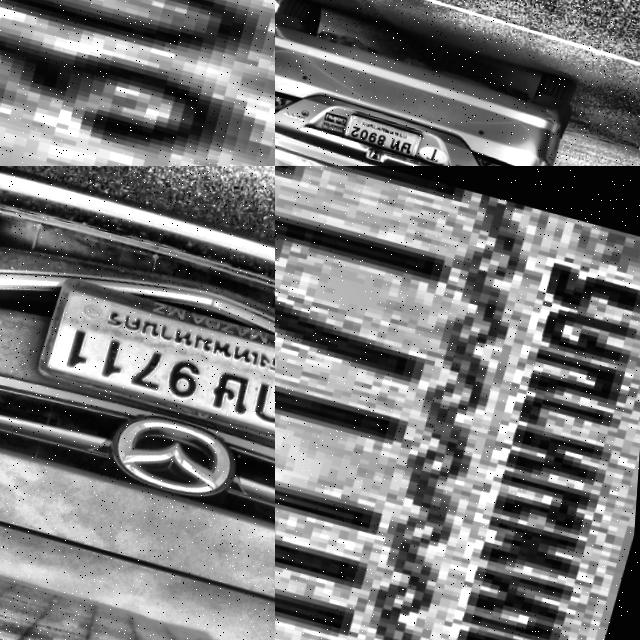license-plate: (275, 166, 640, 640), (0, 0, 275, 166), (210, 471, 275, 640), (601, 39, 640, 102)
